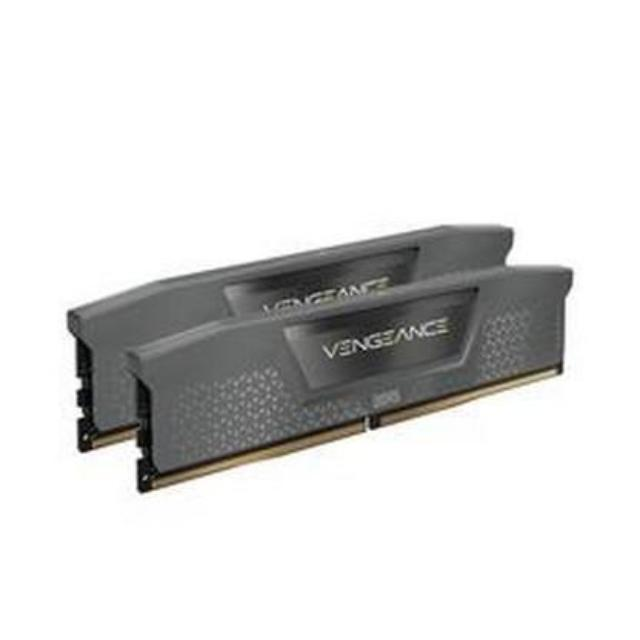RAM: (55, 209, 592, 500)
